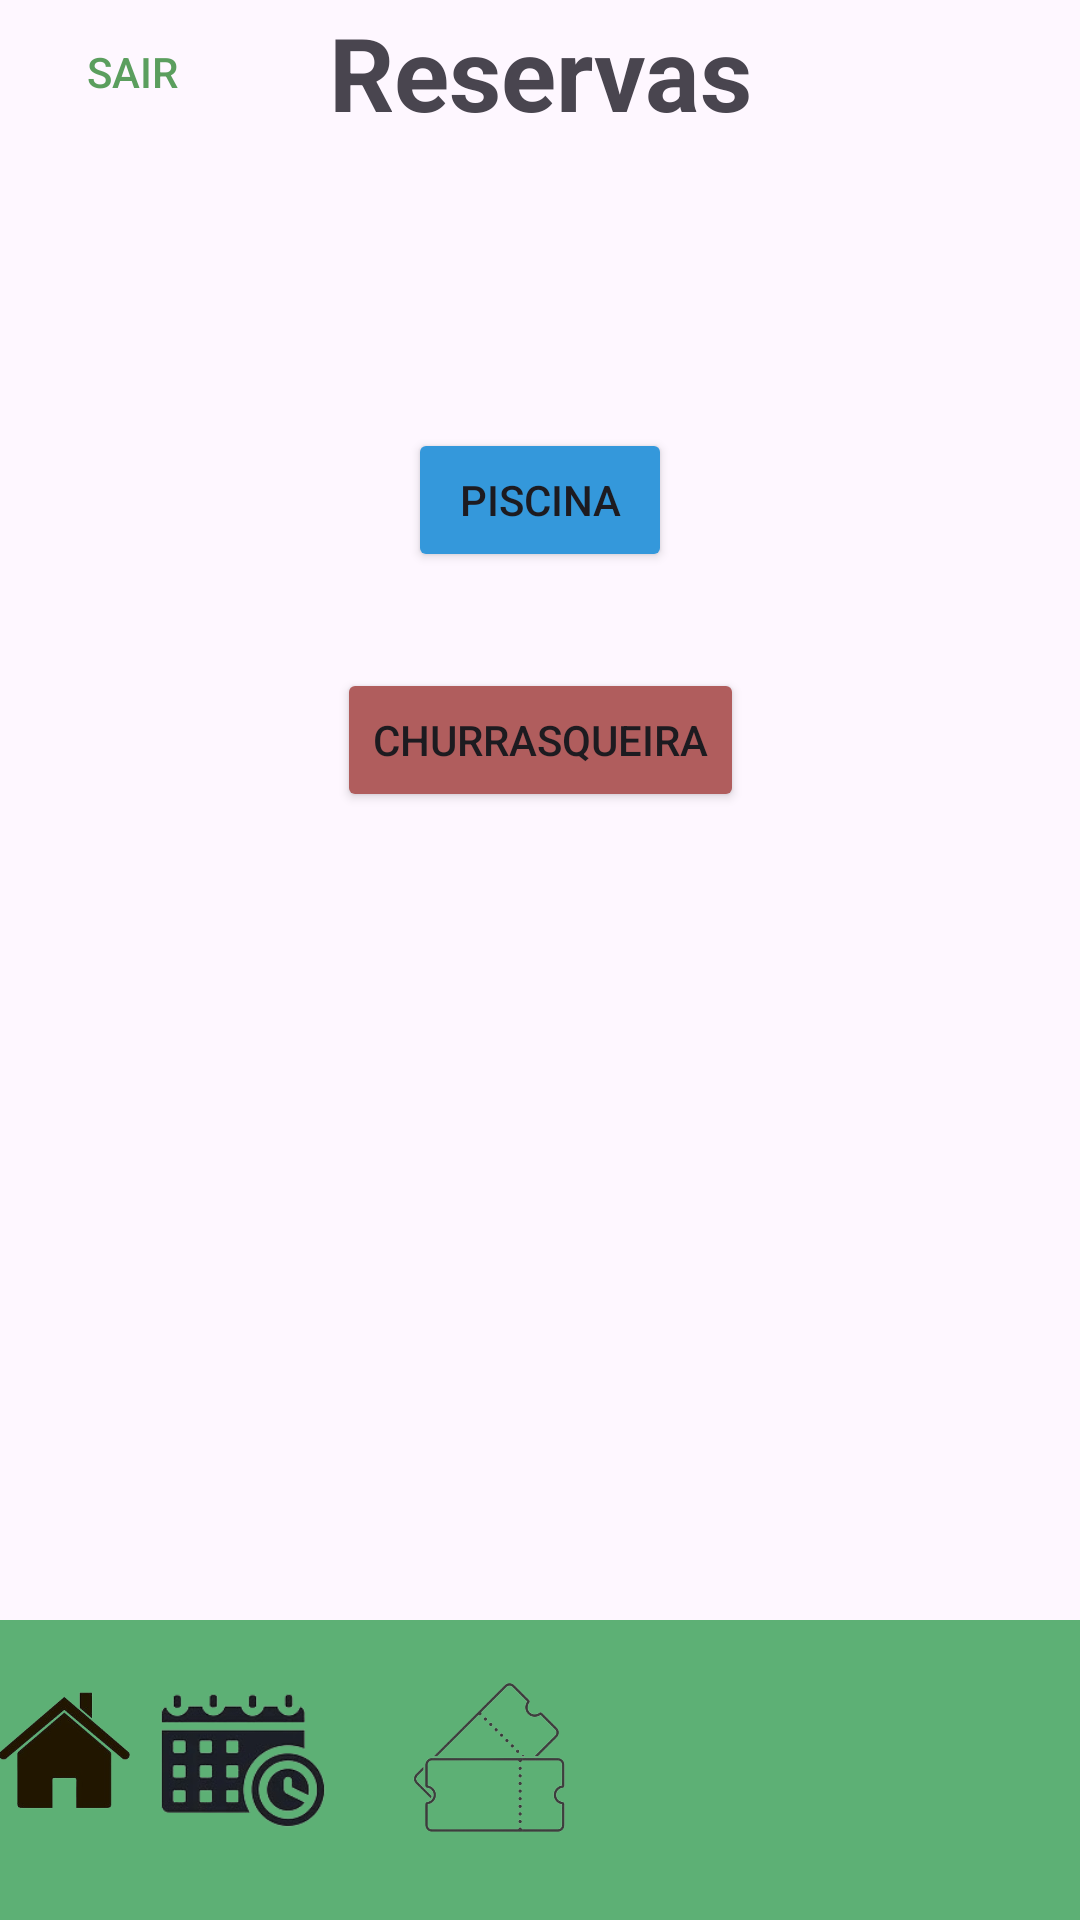

Icon bounding boxes for this 1080x1920 phone screenshot, format region(x1, y1, x2, y2):
reserva: region(162, 1694, 324, 1826)
ticket: region(414, 1683, 565, 1832)
